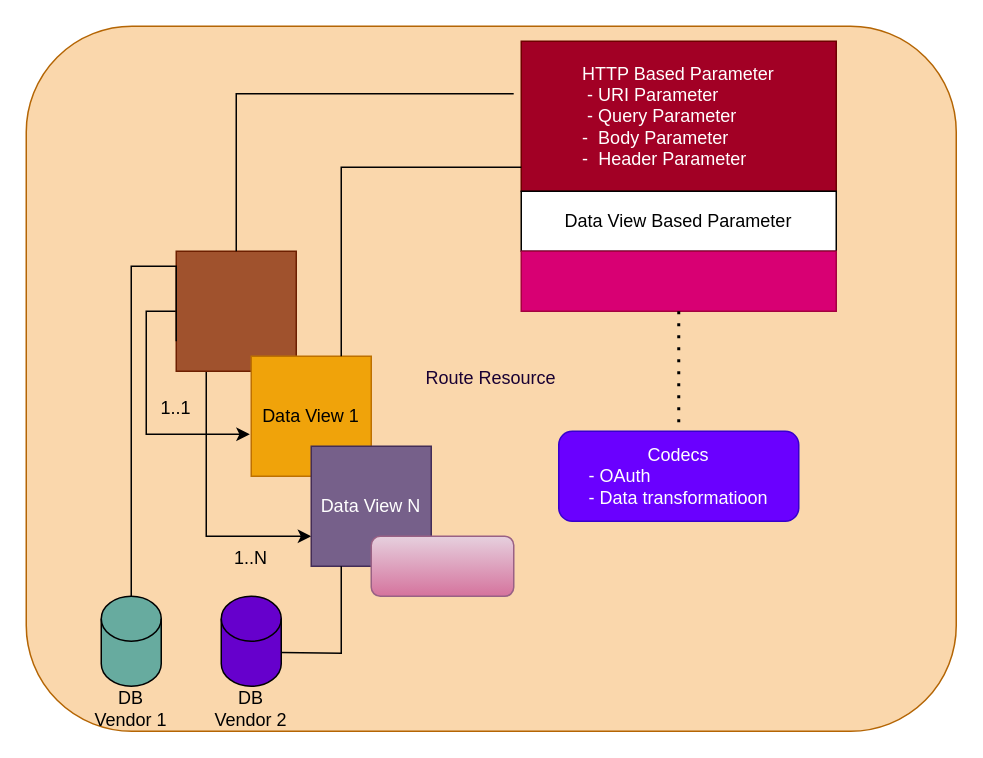
This 983x758 diagram has some shape labels left out. Here are the shapes that lost their labels. From the top down, the centre of each, then its label:
pixel 678 280: StructQL Based Parameter
pixel 235 310: Main Data View
pixel 442 565: Template
